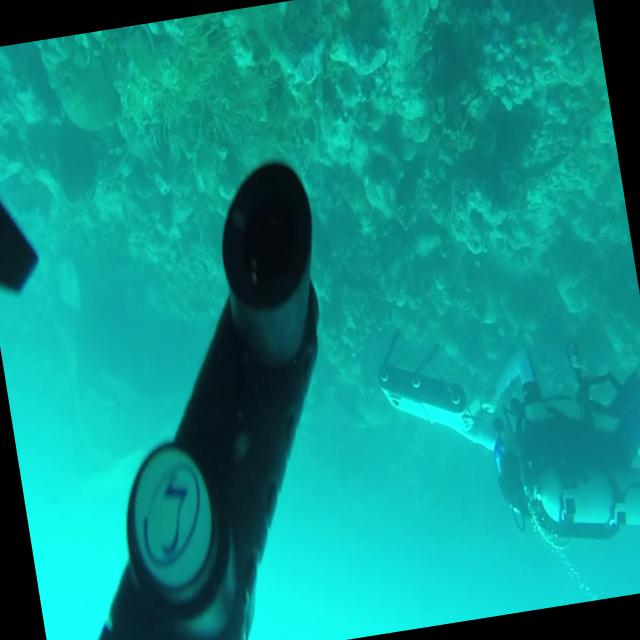human: (371, 302, 640, 601)
